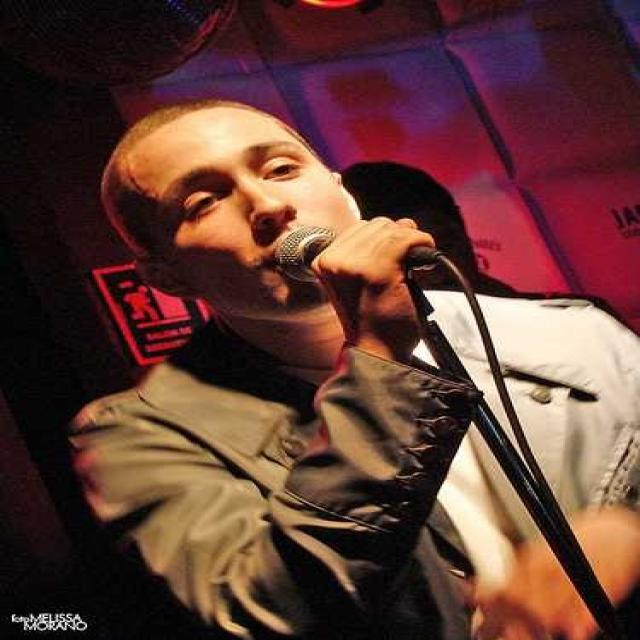microphone: (272, 220, 436, 286)
